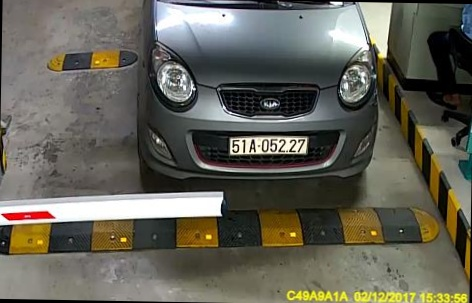plate: (221, 129, 309, 162)
